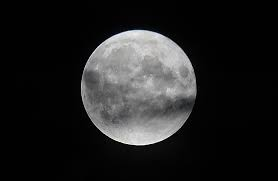moon: (68, 28, 209, 153)
